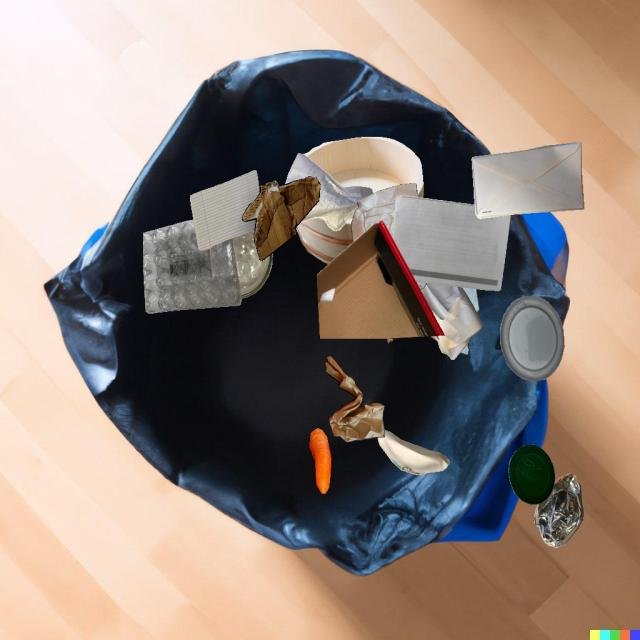biowaste: (309, 428, 331, 493)
cardboard: (316, 220, 445, 338), (242, 176, 321, 261)
combustible waste: (303, 137, 424, 198), (296, 217, 353, 264)
glass: (233, 230, 273, 298)
metal: (534, 473, 583, 548)
paper: (393, 195, 512, 291), (471, 142, 584, 219), (285, 153, 373, 231), (190, 170, 260, 250), (325, 356, 385, 442), (420, 283, 483, 360), (351, 183, 417, 242), (390, 310, 479, 349), (378, 430, 450, 475), (462, 287, 479, 312)
plastic: (143, 219, 242, 313), (500, 296, 564, 381), (508, 445, 555, 505)
